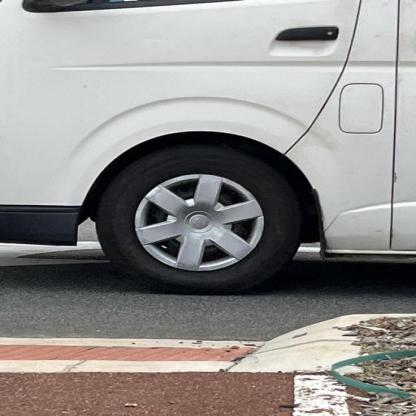Tire: (96, 145, 302, 297)
